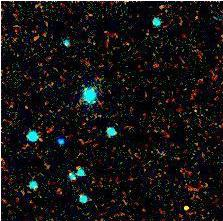star: (170, 192, 200, 221)
